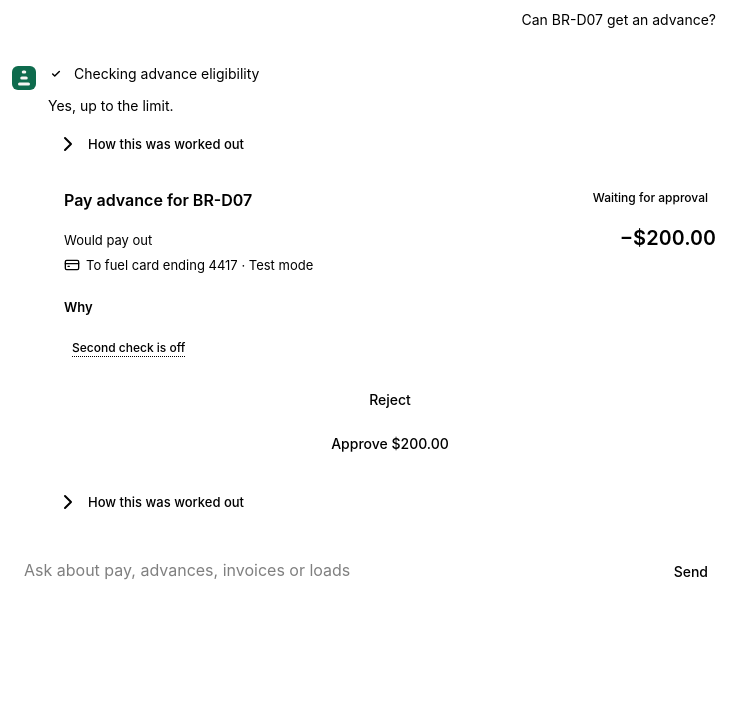
it: AgentChat with the auditor › says plainly when a proposal was made before the auditor started
Click the button "Approve $200.00" at (390, 444), box [64, 426, 716, 462]
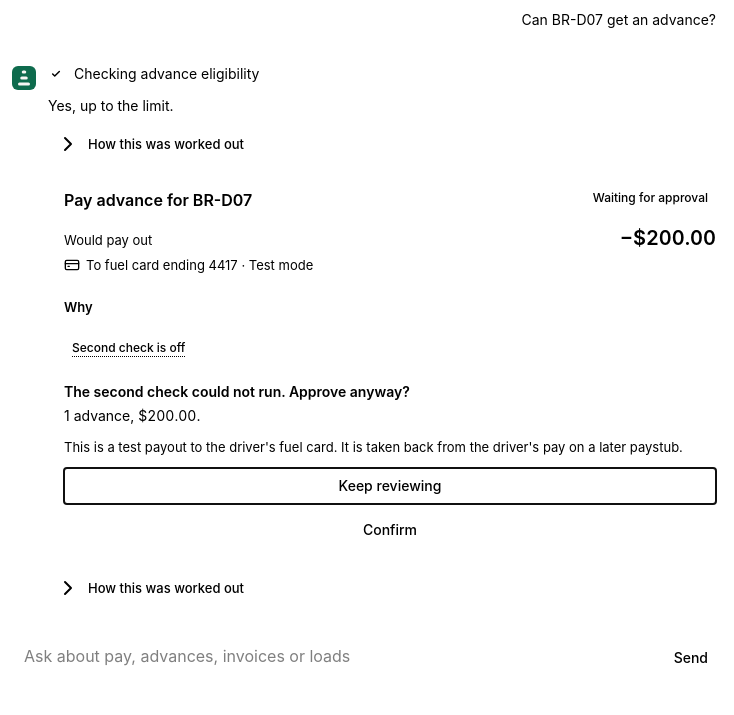
Click the button "Confirm" at (390, 530), box [64, 512, 716, 548]
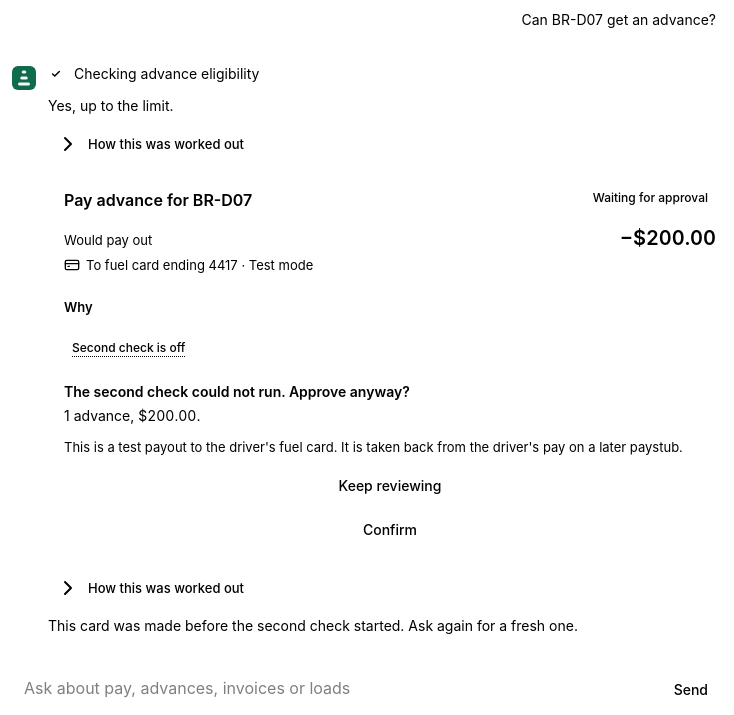
Expected: the text "This card was made before the second check started. Ask again for a fresh one." is shown, [48, 616, 649, 636]
